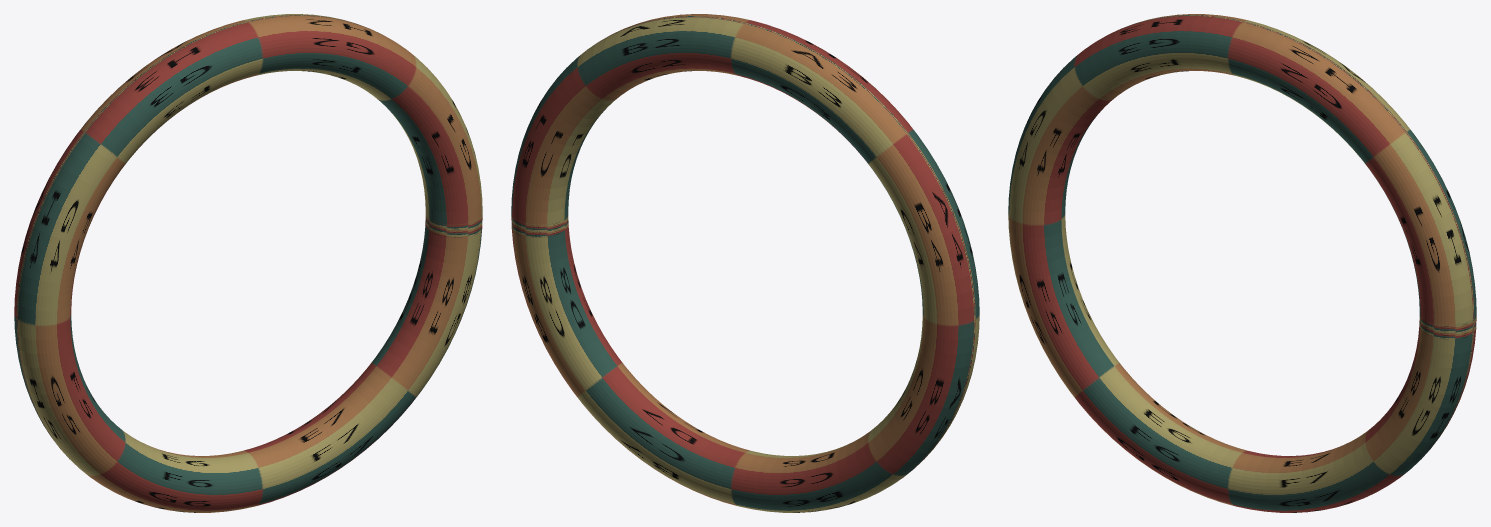
The model's file is texture_torus_R3_r0.glb.
3 renders of one model, left to right at view 1: azimuth 30°, elevation 25°; view 2: azimuth 150°, elevation 25°; view 3: azimuth 330°, elevation 25°, orthographic.
Parts seen in each view (by area): view 1: world; view 2: world; view 3: world.
Part boxes in pixels (box(x1,y1,x2,y2)): world: box(14, 14, 482, 512); world: box(511, 14, 979, 512); world: box(1008, 14, 1476, 512).
Size of the model in its own units: 18.67 by 18.67 by 2.
Materials: 1 (1 with a texture image).
